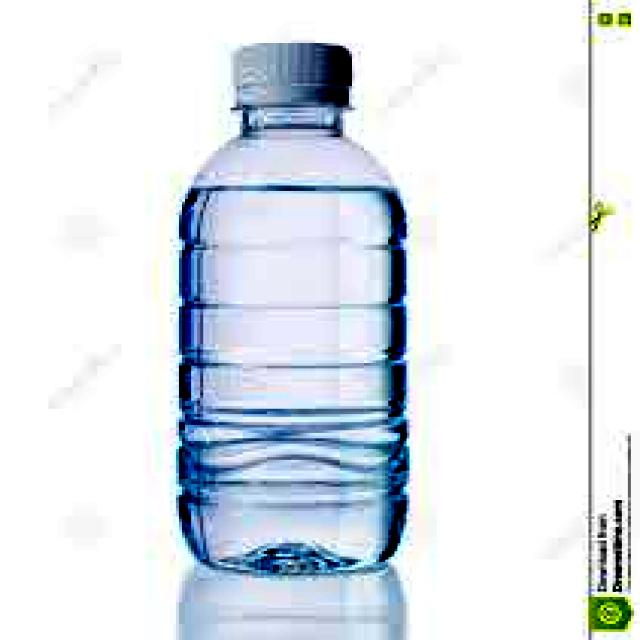Plastic: (174, 39, 418, 576)
